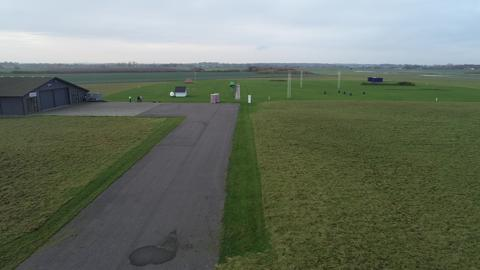RockwoolPallet: (214, 92, 221, 104)
